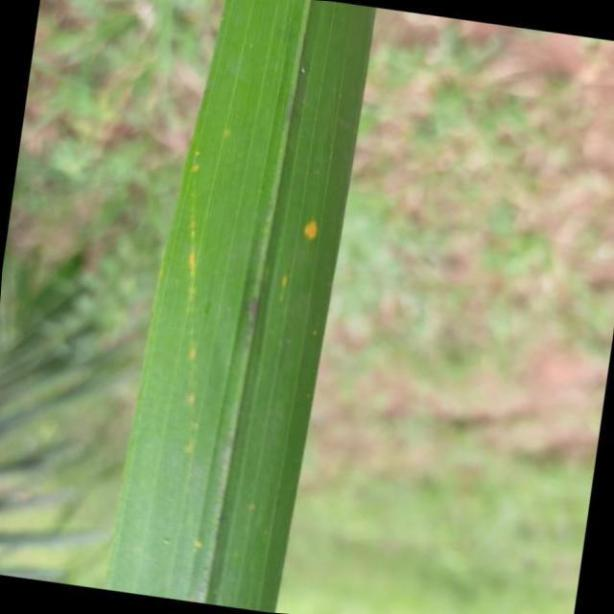Kalium: (110, 0, 376, 614)
